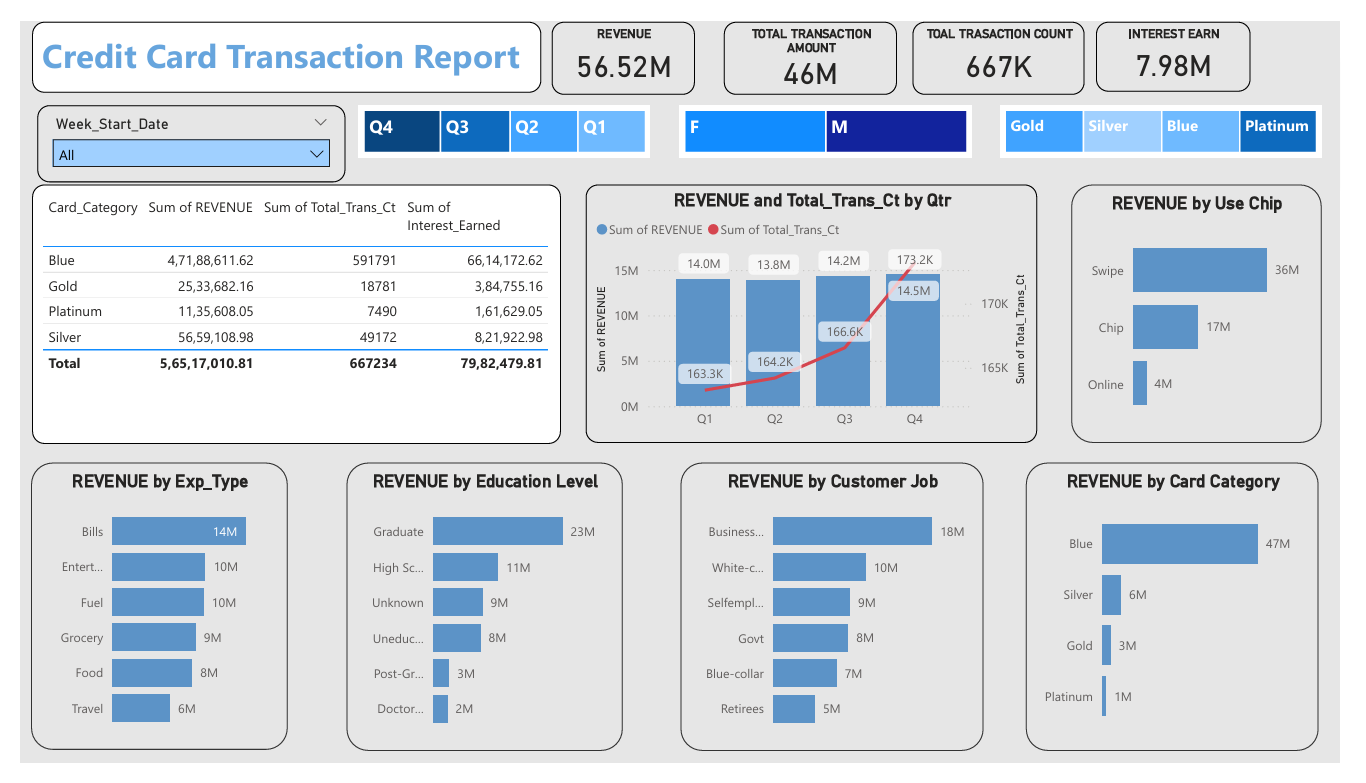

The page's visual inventory and layout, read from the dashboard file:
{"tool":"powerbi","page":{"name":"CC TRANSACTION","canvas":[1280,720],"ordinal":1},"visuals":[{"type":"textbox","box":[10.5,0,494.3,69.1],"z":0},{"type":"lineStackedColumnComboChart","title":" REVENUE and Total_Trans_Ct by Qtr","fields":{"Category":["ccdb cc_detail.Qtr"],"Y":["Sum(ccdb cc_detail.REVENUE)"],"Y2":["Sum(ccdb cc_detail.Total_Trans_Ct)"]},"box":[548.4,157.8,437.2,250.9],"z":1000},{"type":"barChart","title":" REVENUE by Exp_Type","fields":{"Y":["Sum(ccdb cc_detail.REVENUE)"],"Category":["ccdb cc_detail.Exp_Type"]},"box":[10.1,427.6,249.1,279.3],"z":2000},{"type":"barChart","title":" REVENUE by Education Level","fields":{"Y":["Sum(ccdb cc_detail.REVENUE)"],"Category":["ccdb cust_detail.Education_Level"]},"box":[315.5,428.2,268.9,279.4],"z":3000},{"type":"barChart","title":" REVENUE by Customer Job","fields":{"Y":["Sum(ccdb cc_detail.REVENUE)"],"Category":["ccdb cust_detail.Customer_Job"]},"box":[640,428.2,294.5,279.4],"z":4000},{"type":"barChart","title":" REVENUE by Card Category","fields":{"Y":["Sum(ccdb cc_detail.REVENUE)"],"Category":["ccdb cc_detail.Card_Category"]},"box":[975.1,428.2,284,279.4],"z":5000},{"type":"barChart","title":" REVENUE by Use Chip","fields":{"Y":["Sum(ccdb cc_detail.REVENUE)"],"Category":["ccdb cc_detail.Use_Chip"]},"box":[1018.6,157.8,243.4,250.9],"z":6000},{"type":"tableEx","fields":{"Values":["ccdb cc_detail.Card_Category","Sum(ccdb cc_detail.REVENUE)","Sum(ccdb cc_detail.Total_Trans_Ct)","Sum(ccdb cc_detail.Interest_Earned)"]},"box":[10.5,157.8,513.8,252.4],"z":7000},{"type":"card","title":"REVENUE","fields":{"Values":["Sum(ccdb cc_detail.REVENUE)"]},"box":[515.3,0,138.2,70.6],"z":8000},{"type":"card","title":"TOTAL TRANSACTION AMOUNT","fields":{"Values":["Sum(ccdb cc_detail.Total_Trans_Amt)"]},"box":[682.1,0,168.3,70.6],"z":9000},{"type":"card","title":"TOAL TRASACTION COUNT","fields":{"Values":["Sum(ccdb cc_detail.Total_Trans_Ct)"]},"box":[865.4,0,166.8,70.6],"z":10000},{"type":"card","title":"INTEREST EARN","fields":{"Values":["Sum(ccdb cc_detail.Interest_Earned)"]},"box":[1042.7,0,150.2,67.6],"z":11000},{"type":"slicer","fields":{"Values":["ccdb cc_detail.Week_Start_Date"]},"box":[15.8,80.6,299.5,74.9],"z":12000},{"type":"treemap","fields":{"Group":["ccdb cc_detail.Qtr"],"Values":["Avg(ccdb cc_detail.Client_Num)"]},"box":[327.5,81.1,284,51.1],"z":13000},{"type":"treemap","fields":{"Group":["ccdb cust_detail.Gender"],"Values":["Avg(ccdb cc_detail.Client_Num)"]},"box":[639.3,80.6,283.7,51.8],"z":14000},{"type":"treemap","fields":{"Values":["Avg(ccdb cc_detail.Client_Num)"],"Group":["ccdb cc_detail.Card_Category"]},"box":[949.5,81.1,312.5,51.1],"z":15000}]}

Visuals, with their boxes in screenshot pixels (x1, y1, x2, y2), scaled from the page's 1280x720 canvas onto the 1366x783 screenshot:
textbox: (left=11, top=0, right=539, bottom=75)
" REVENUE and Total_Trans_Ct by Qtr" lineStackedColumnComboChart: (left=585, top=172, right=1052, bottom=444)
" REVENUE by Exp_Type" barChart: (left=11, top=465, right=277, bottom=769)
" REVENUE by Education Level" barChart: (left=337, top=466, right=624, bottom=770)
" REVENUE by Customer Job" barChart: (left=683, top=466, right=997, bottom=770)
" REVENUE by Card Category" barChart: (left=1041, top=466, right=1344, bottom=770)
" REVENUE by Use Chip" barChart: (left=1087, top=172, right=1347, bottom=444)
tableEx - ccdb cc_detail.Card_Category x Sum(ccdb cc_detail.REVENUE): (left=11, top=172, right=560, bottom=446)
"REVENUE" card: (left=550, top=0, right=697, bottom=77)
"TOTAL TRANSACTION AMOUNT" card: (left=728, top=0, right=908, bottom=77)
"TOAL TRASACTION COUNT" card: (left=924, top=0, right=1102, bottom=77)
"INTEREST EARN" card: (left=1113, top=0, right=1273, bottom=74)
slicer - ccdb cc_detail.Week_Start_Date: (left=17, top=88, right=336, bottom=169)
treemap - ccdb cc_detail.Qtr x Avg(ccdb cc_detail.Client_Num): (left=350, top=88, right=653, bottom=144)
treemap - ccdb cust_detail.Gender x Avg(ccdb cc_detail.Client_Num): (left=682, top=88, right=985, bottom=144)
treemap - Avg(ccdb cc_detail.Client_Num) x ccdb cc_detail.Card_Category: (left=1013, top=88, right=1347, bottom=144)
